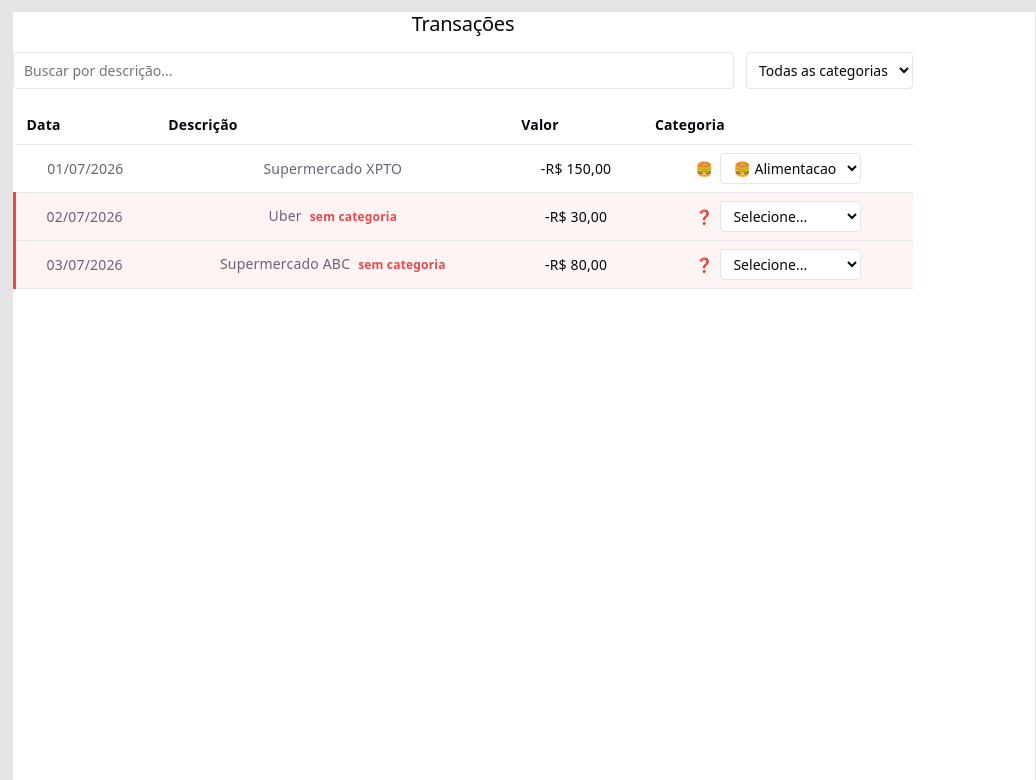
Scenario: TransactionsPage › busca + filtro combinados usam AND, nao OR
The width and height of the screenshot is (1036, 780).
Check: the text "Supermercado XPTO" is shown, box [156,144,509,192]
Type "supermercado" into the field with placeholder "Buscar por descrição...". click: [374, 70]
box: [13,52,734,89]
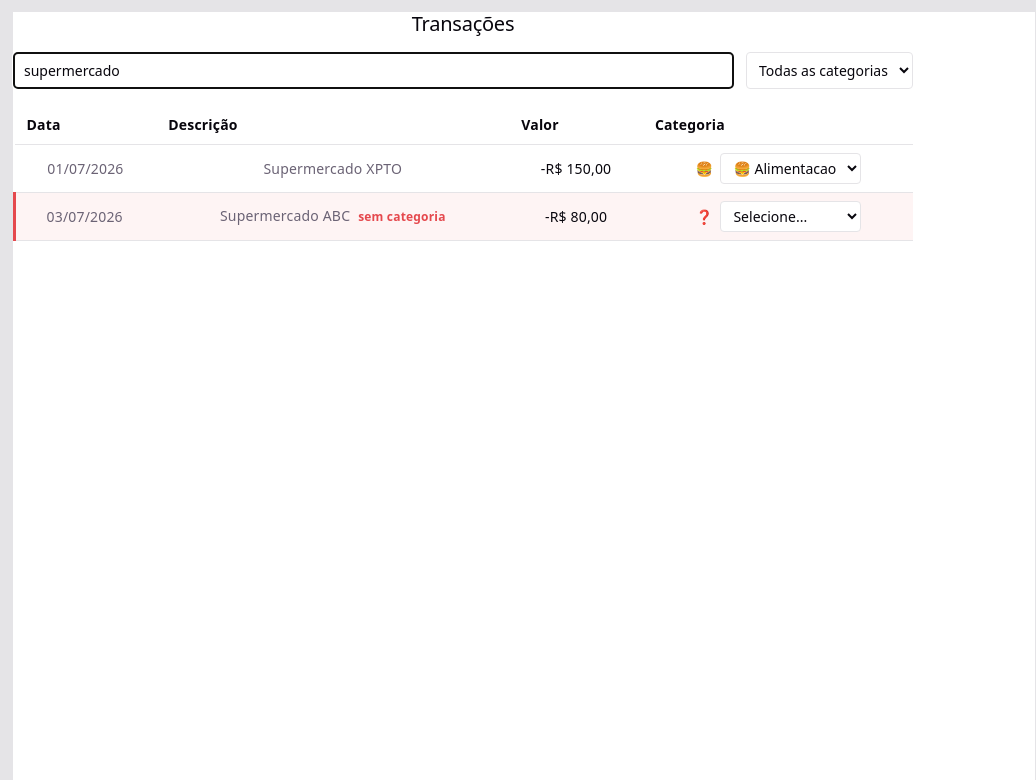
Select "❓ Sem categoria" in the 1st dropdown. click: [830, 70]
box: [746,52,913,89]
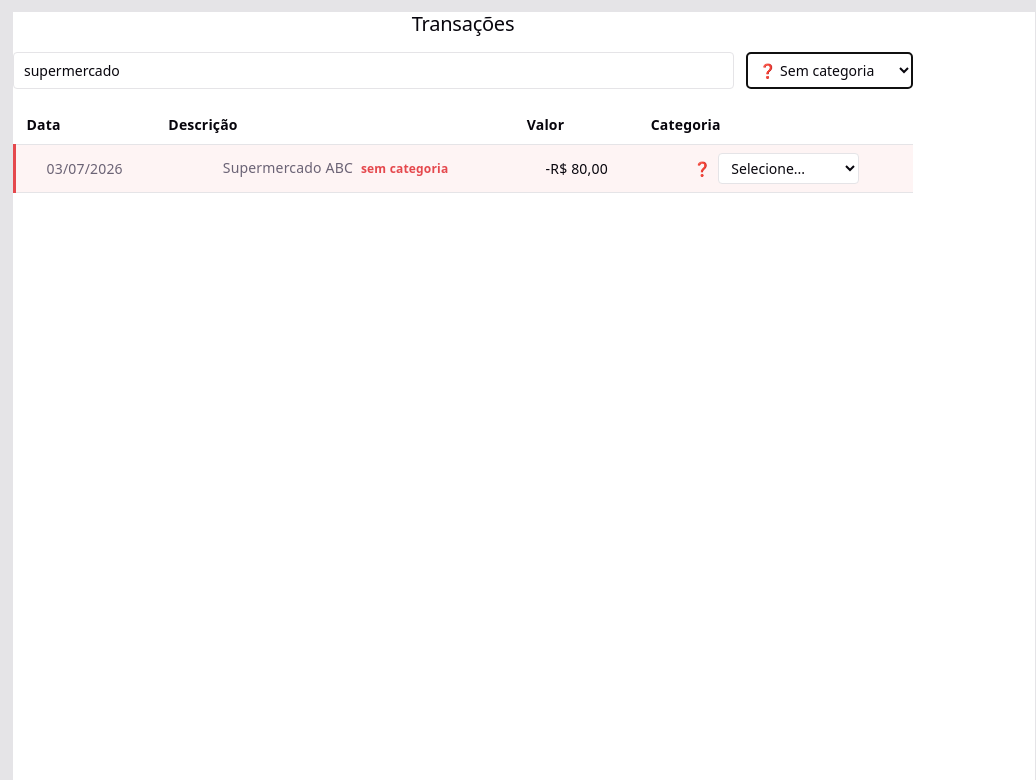
Check: the text "Supermercado ABC" is shown, box [223,158,353,177]
Check: the text "Supermercado XPTO" is gone
